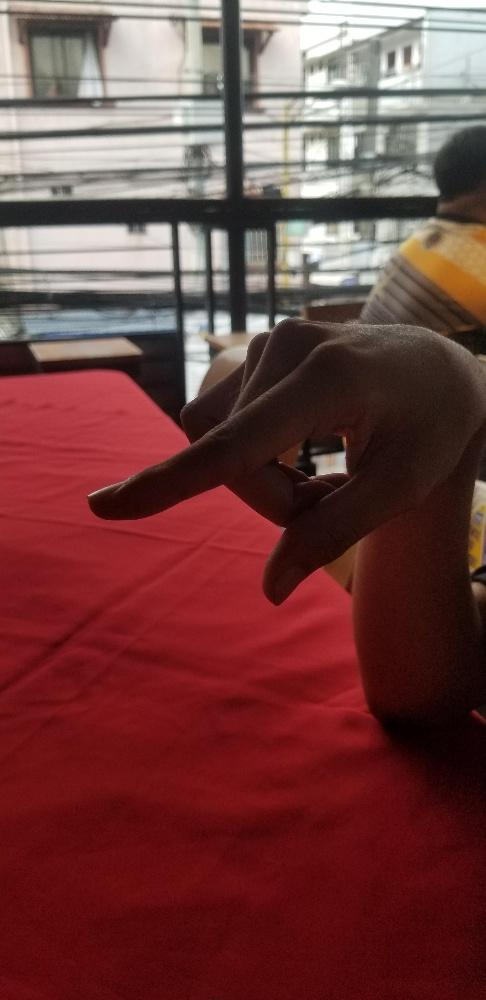z: (84, 312, 480, 606)
